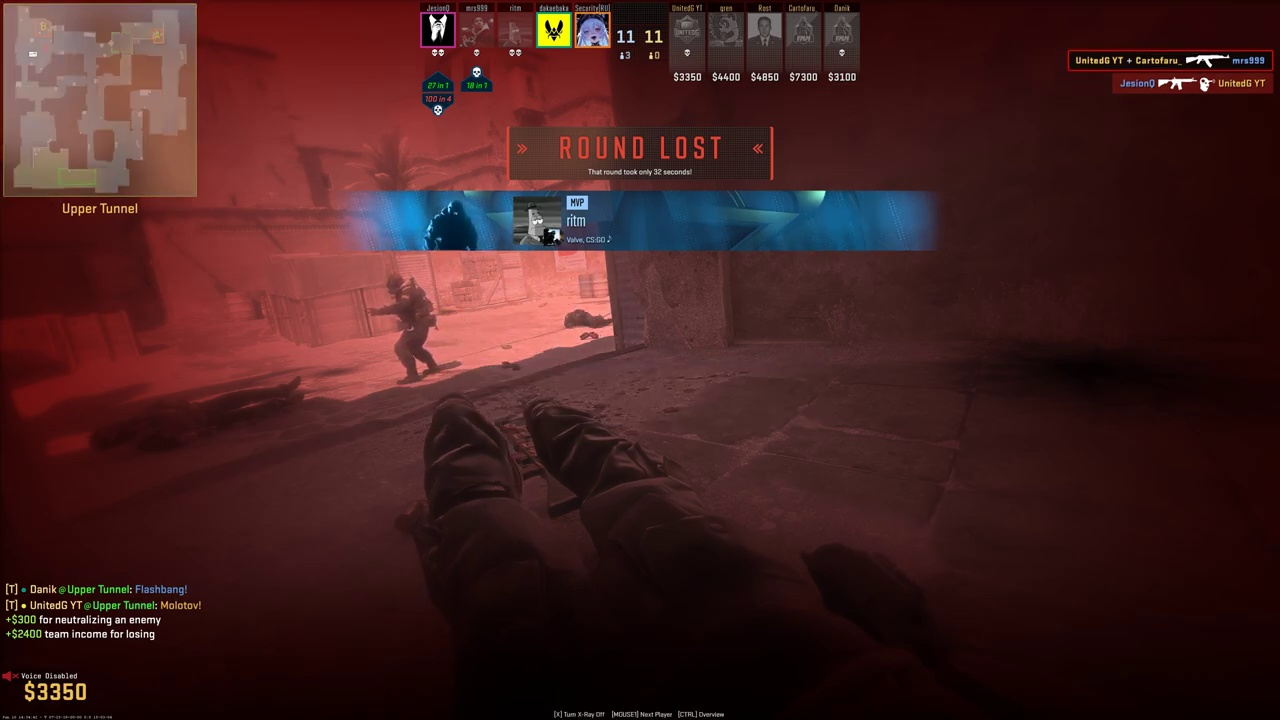CT: (386, 273, 438, 383)
